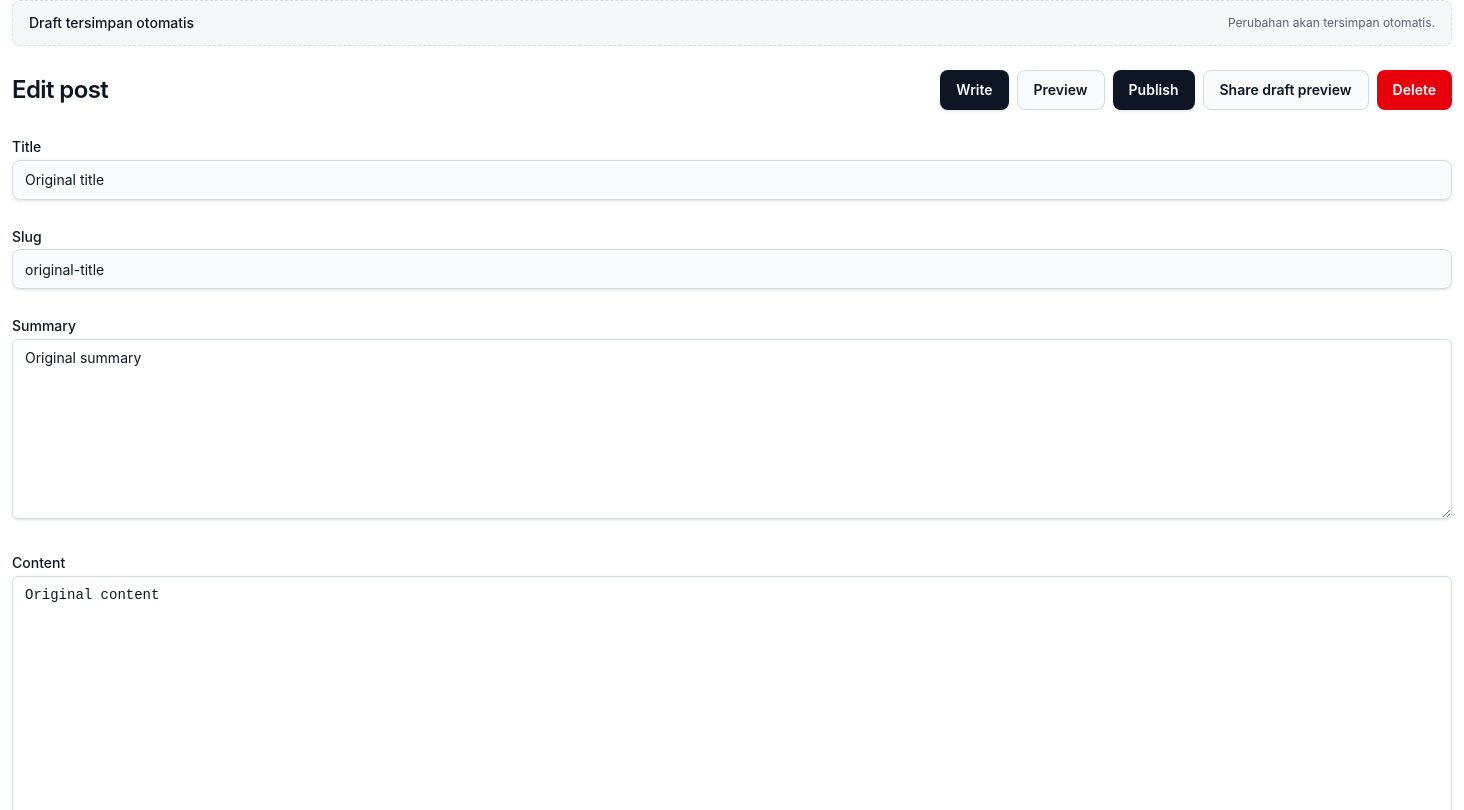
Scenario: PostEditor hardening › shows a conflict banner when autosave loses a two-tab update race
# the draft autosaves after another tab has already changed the post.
Step 1. Replace the text in the field labelled "Title" with "Local title" → (732, 180), box left=12, top=160, right=1452, bottom=200
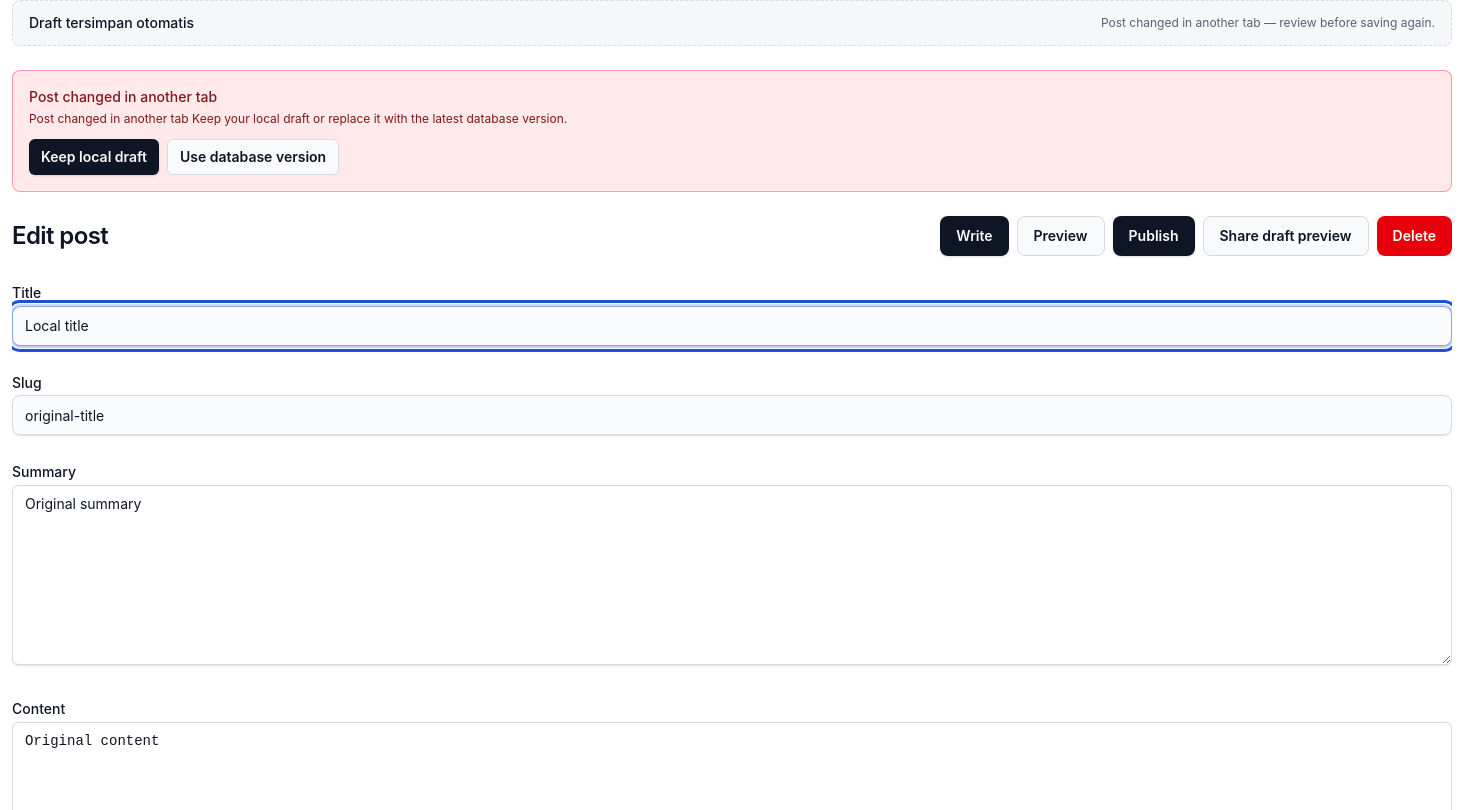
Expected: the button "Keep local draft" is shown, left=29, top=139, right=159, bottom=175
